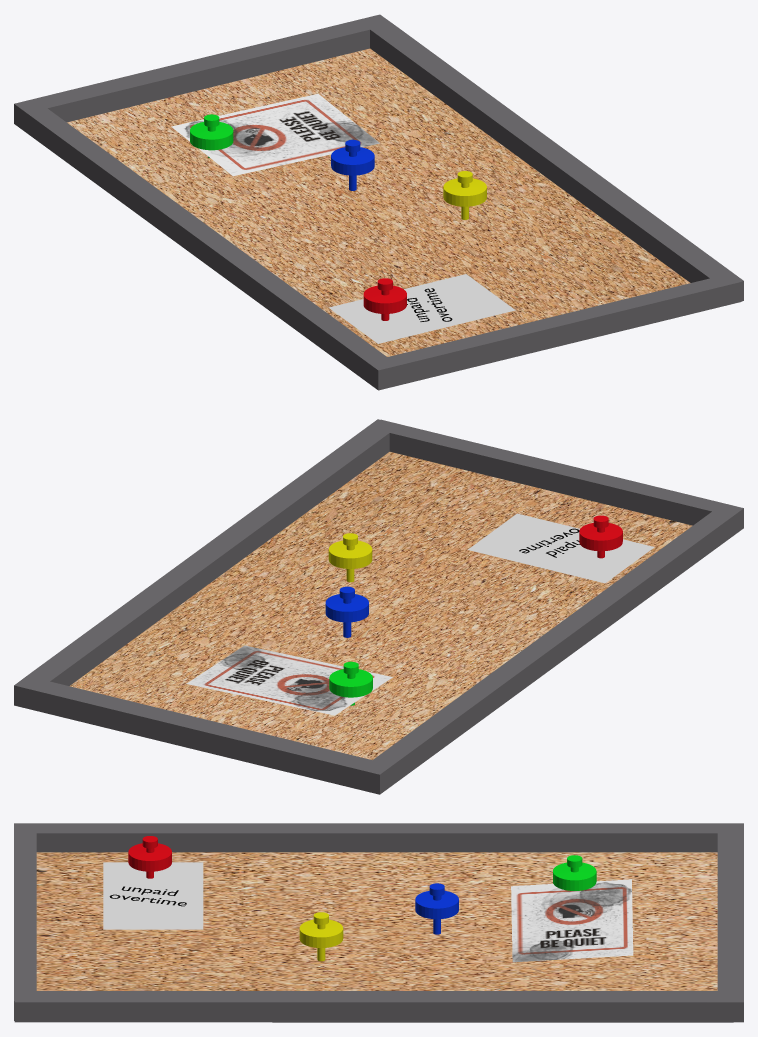
File: noticeboard.gltf
3 views of the same model, one above another, from view 1: azimuth 30°, elevation 25°; view 2: azimuth 150°, elevation 25°; view 3: azimuth 270°, elevation 25° (orthographic).
Visible parts, largest first — view 1: Plane, Cube, Plane.002, Plane.001, Cylinder.003, Cylinder.001, Cylinder, Cylinder.002; view 2: Plane, Cube, Plane.002, Plane.001, Cylinder.003, Cylinder.001, Cylinder, Cylinder.002; view 3: Plane, Cube, Plane.002, Plane.001, Cylinder.001, Cylinder.003, Cylinder, Cylinder.002, Text.
Boxes of the visible parts, x1,y1,x2,y2 form: Plane: (67, 48, 690, 356); Cube: (14, 14, 743, 390); Plane.002: (171, 94, 379, 176); Plane.001: (328, 274, 515, 343); Cylinder.003: (331, 139, 374, 190); Cylinder.001: (443, 171, 486, 219); Cylinder: (363, 278, 406, 320); Cylinder.002: (190, 114, 233, 158); Plane: (69, 452, 692, 759); Cube: (14, 419, 743, 794); Plane.002: (186, 645, 392, 715); Plane.001: (468, 513, 654, 583); Cylinder.003: (325, 586, 368, 637); Cylinder.001: (328, 533, 372, 582); Cylinder: (579, 515, 622, 558); Cylinder.002: (329, 661, 372, 705); Plane: (36, 852, 717, 990); Cube: (14, 823, 743, 1022); Plane.002: (511, 879, 633, 962); Plane.001: (103, 862, 203, 929); Cylinder.001: (299, 912, 343, 961); Cylinder.003: (415, 883, 458, 934); Cylinder: (128, 836, 171, 878); Cylinder.002: (553, 855, 596, 890); Text: (109, 886, 186, 906).
Size of the model in its own units: 2.04 by 0.3394 by 3.51.
9 materials, 2 textured.
